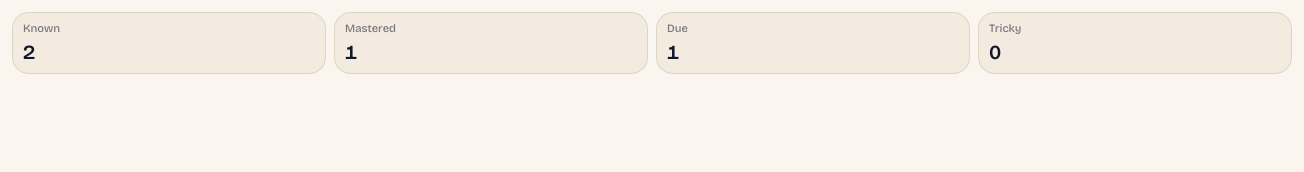
Test case: opening one › shows only that figure's words
What coordinates should you click on to do the following:
click the button "Mastered 1"
I would click on:
 (371, 28)
Its box is [334, 12, 648, 74].
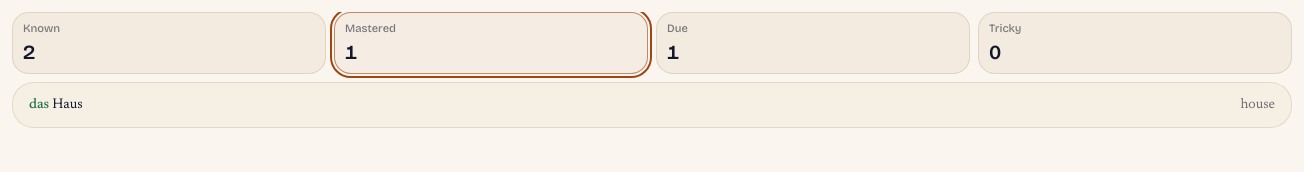
Check: the text "Haus" is shown, box [52, 98, 83, 112]
